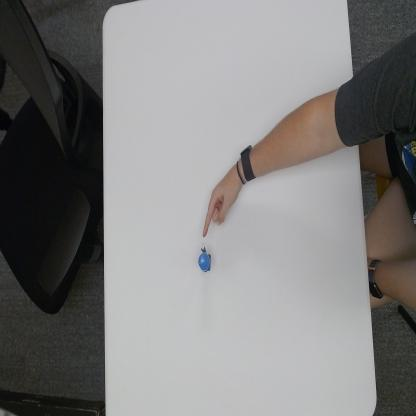Hand: (256, 70, 363, 178), (202, 162, 244, 239)
